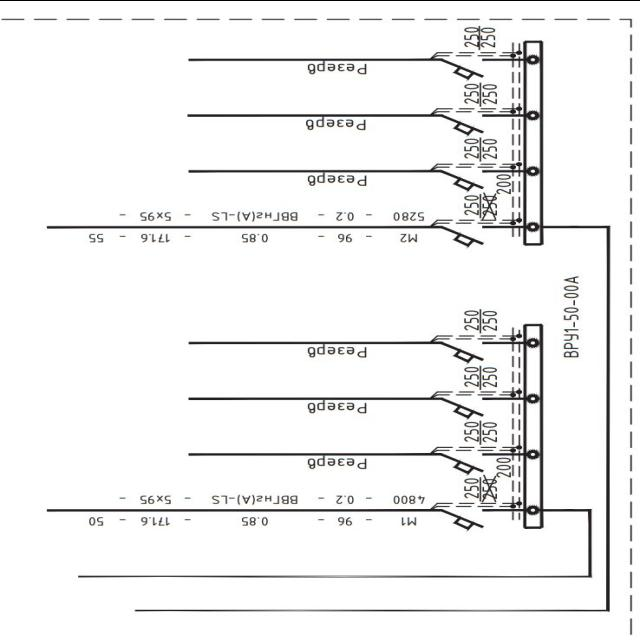-: (556, 272, 584, 362), (461, 192, 498, 220), (461, 419, 499, 446), (462, 24, 500, 51), (462, 475, 500, 502), (462, 134, 500, 161), (462, 362, 500, 389), (462, 81, 500, 108), (462, 308, 500, 334)
QF: (439, 506, 502, 532), (440, 222, 502, 248), (436, 337, 498, 363), (438, 450, 500, 476), (438, 55, 500, 81), (437, 110, 499, 136), (437, 167, 499, 193), (438, 395, 500, 421)
